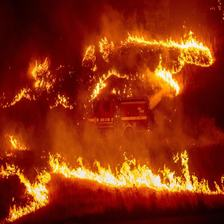fire: (5, 137, 218, 211), (23, 27, 215, 105)
